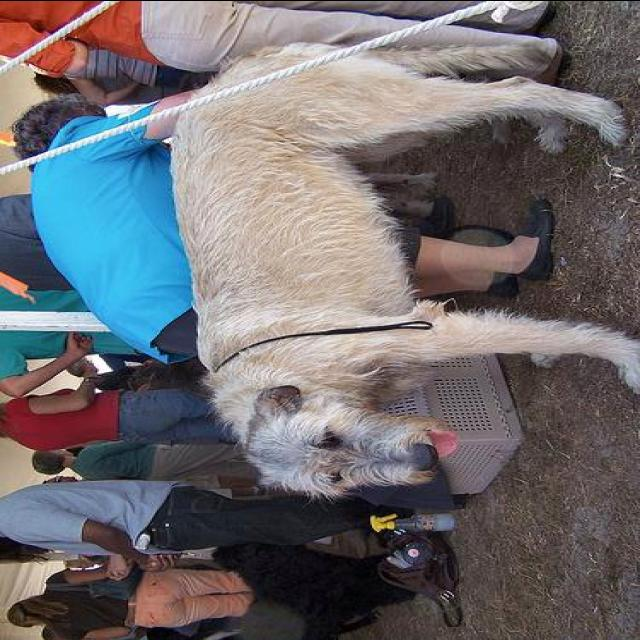irish_wolfhound: (167, 46, 638, 499)
